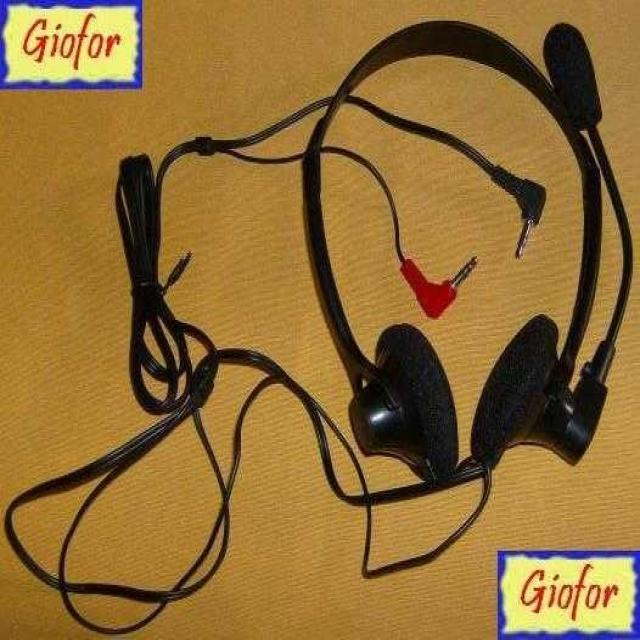microphone: (542, 22, 601, 131)
